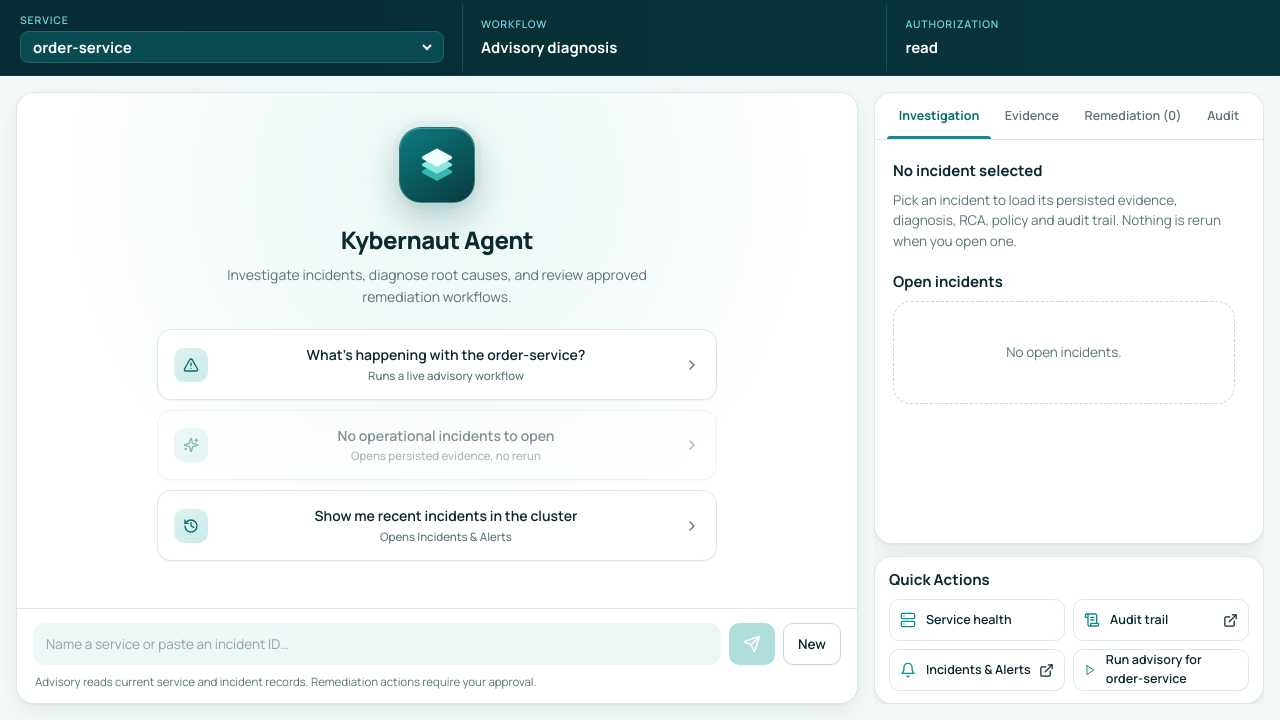
Test: Console natural-language queries › returns live CPU and memory data with its observation timestamp
Type "Check CPU and memory usage for payment service" into the text box named "Ask Kybernaut".
click(377, 644); type("Check CPU and memory usage for payment service")  # box [33,623,721,665]
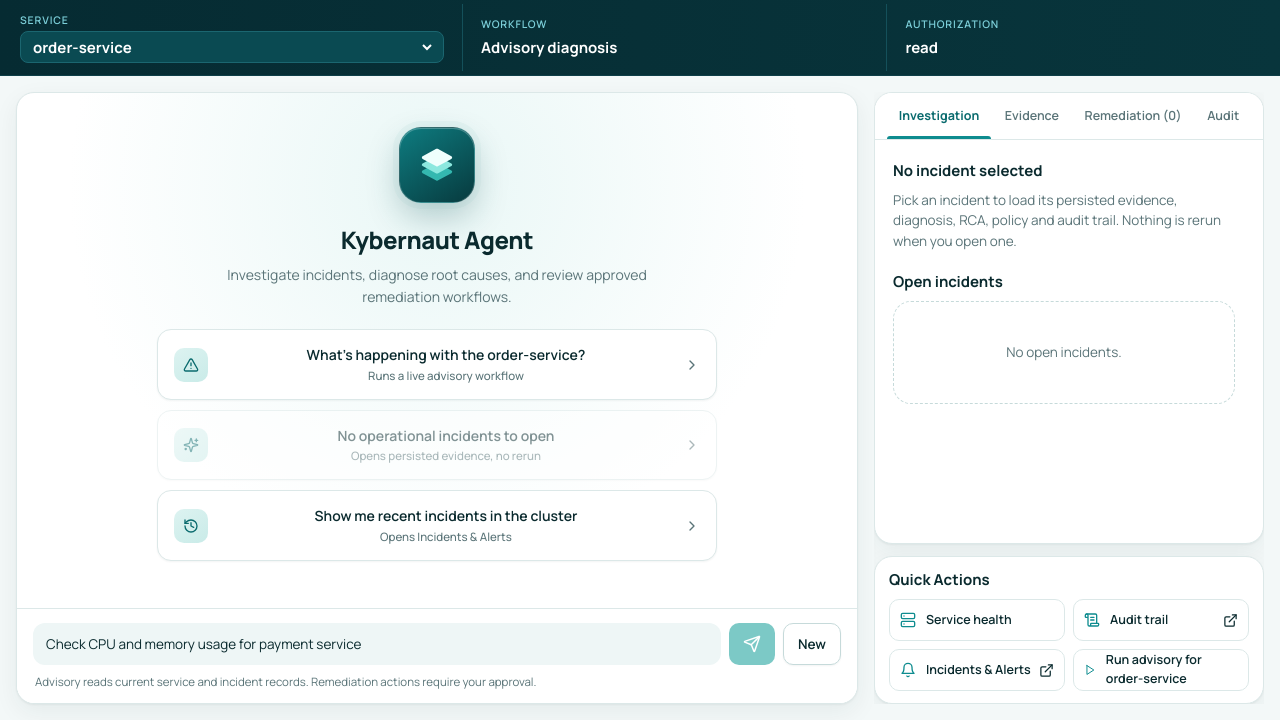
Click the button named "Send".
click(752, 644)  # box [729,623,775,665]
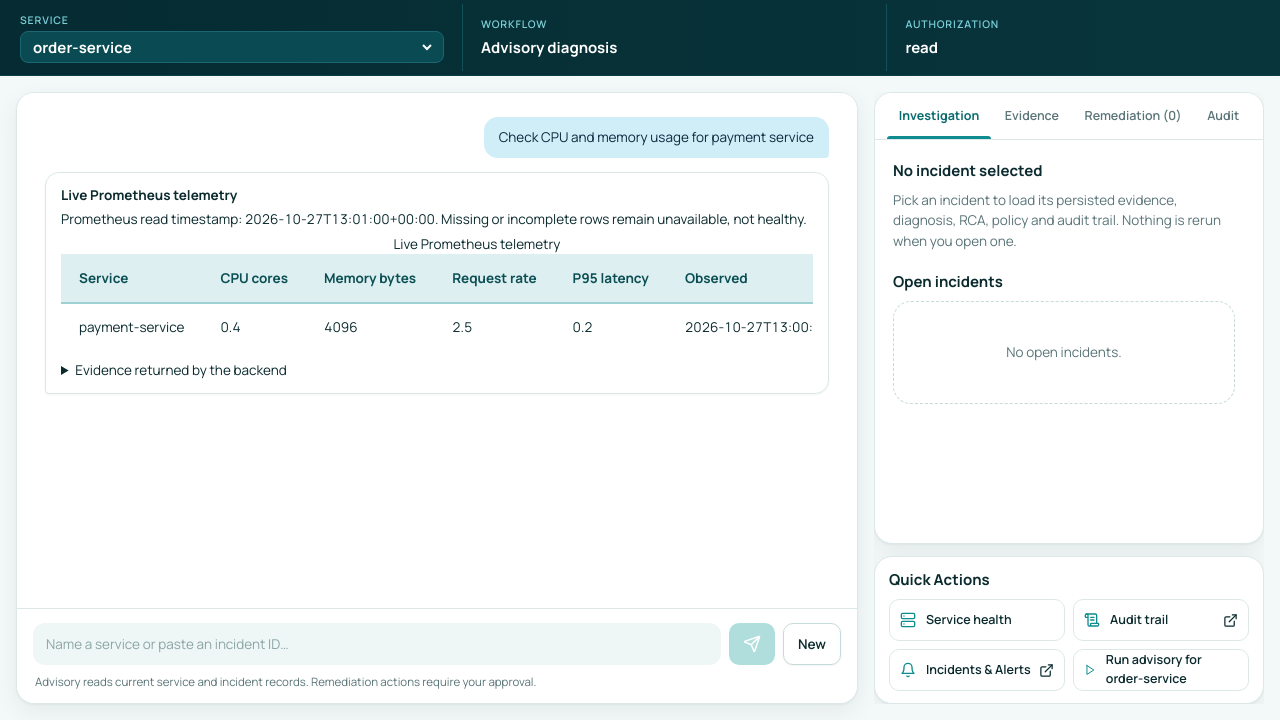
Now the text "0.4" is shown, box [202,303,306,350]
Now the text "4096" is shown, box [306,303,434,350]
Now the text "2026-10-27T13:00:58+00:00" is shown, box [667,303,813,350]
